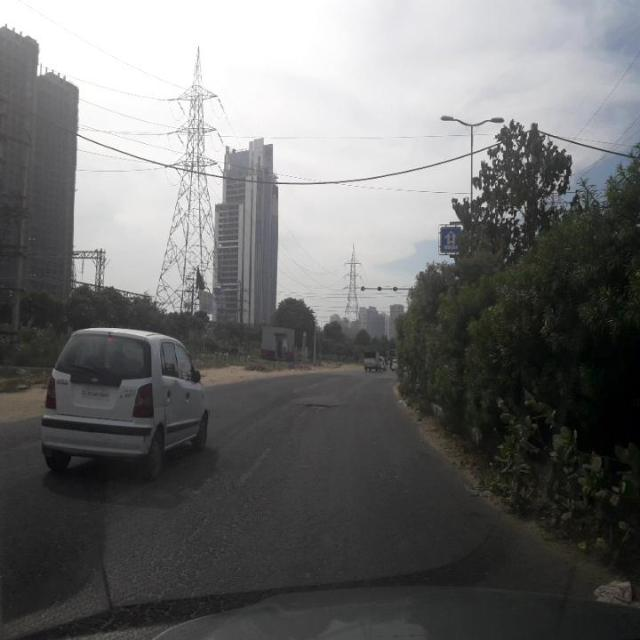crack: (19, 448, 346, 625)
pothole: (289, 390, 345, 420)
